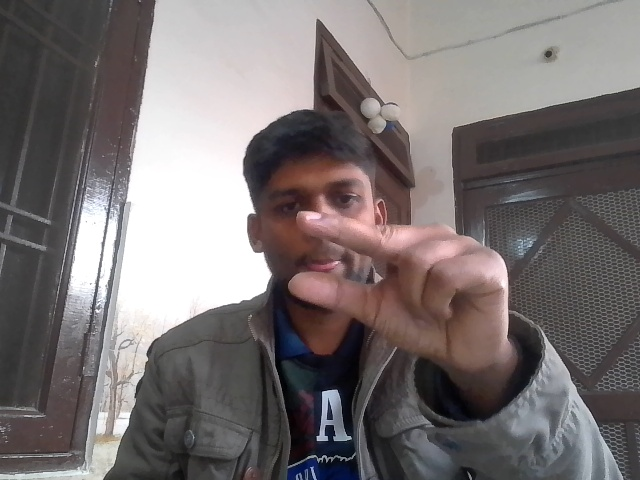No: (279, 197, 535, 389)
